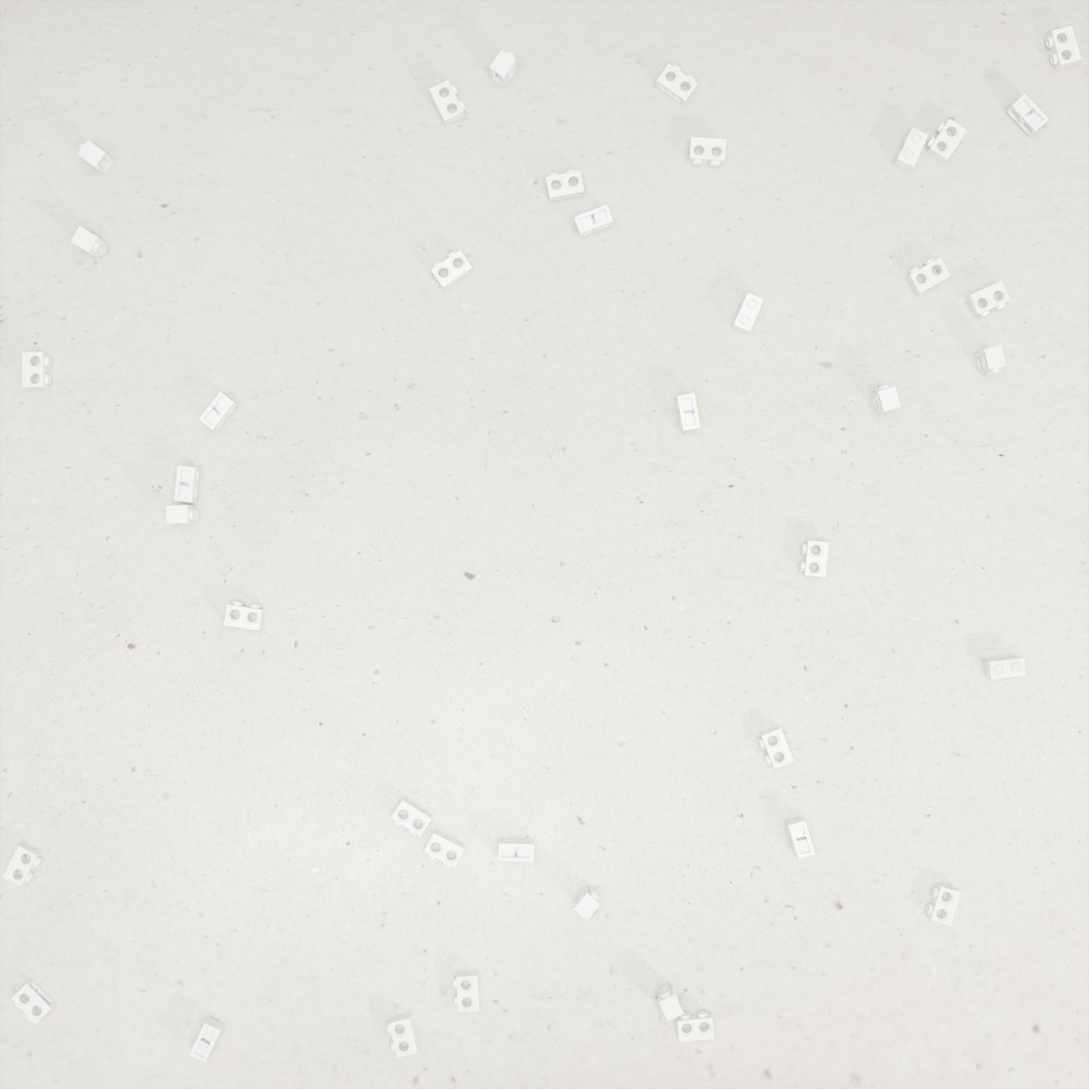lego: (11, 979, 56, 1024), (1006, 93, 1049, 137), (655, 63, 698, 106), (926, 119, 967, 164), (2, 842, 43, 887), (906, 257, 951, 296), (965, 280, 1011, 318), (429, 80, 466, 126), (431, 250, 473, 290), (391, 797, 433, 837), (189, 1017, 225, 1063), (198, 391, 238, 432), (893, 127, 929, 172), (424, 830, 466, 868), (1046, 25, 1081, 70), (758, 726, 794, 769), (926, 883, 961, 926), (387, 1013, 419, 1058), (731, 292, 764, 335), (573, 204, 613, 238), (77, 140, 115, 175), (785, 817, 815, 859), (70, 226, 108, 259), (546, 169, 584, 202), (224, 601, 265, 631), (676, 1011, 714, 1042), (688, 137, 726, 167), (453, 971, 480, 1012), (800, 540, 829, 578), (22, 352, 51, 389), (489, 50, 517, 88), (656, 984, 684, 1022), (983, 656, 1026, 680), (974, 345, 1007, 376), (675, 393, 701, 432), (573, 885, 601, 921), (174, 465, 200, 503), (870, 384, 901, 415), (498, 839, 534, 862), (166, 505, 199, 524)
